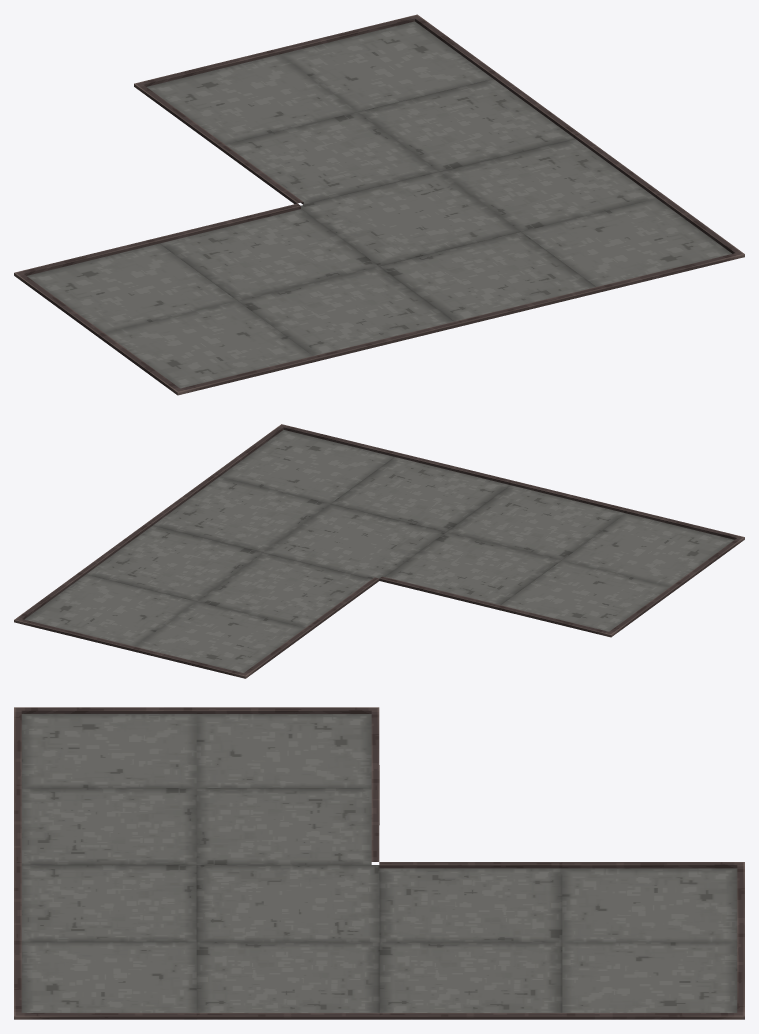
File: LRoof.fbx
3 views of the same model, one above another, from view 1: azimuth 30°, elevation 25°; view 2: azimuth 150°, elevation 25°; view 3: azimuth 270°, elevation 25° (orthographic). The views are drawn at different scales.
Parts seen in each view (by area): view 1: LRoof; view 2: LRoof; view 3: LRoof.
Part boxes in pixels (bbox=[...]): LRoof: bbox=[14, 14, 744, 395]; LRoof: bbox=[14, 424, 744, 678]; LRoof: bbox=[14, 707, 744, 1019].
Bounding box in the file's own units: 400 × 2 × 400.
